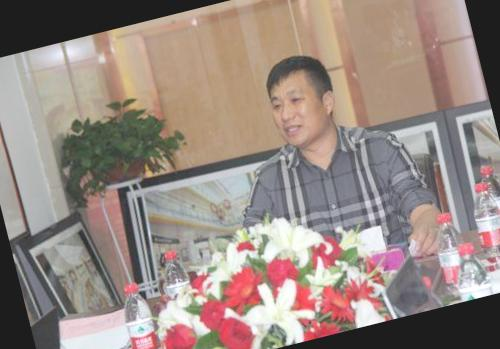no_helmet: (254, 41, 345, 155)
